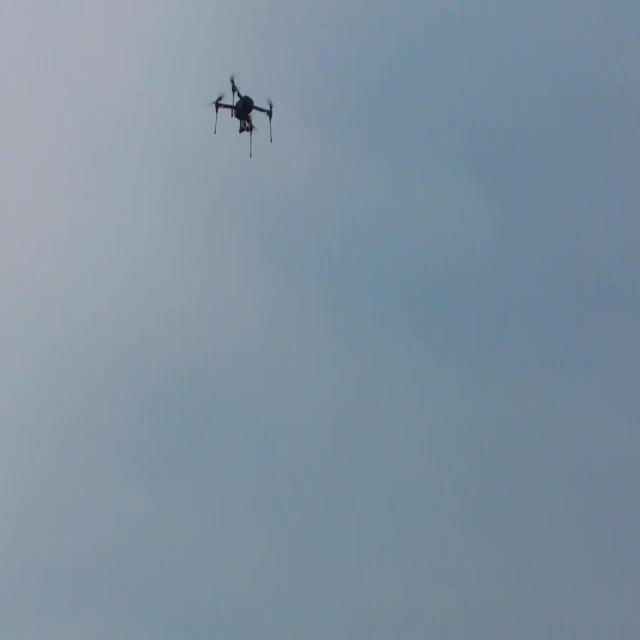UAV: (208, 74, 274, 159)
